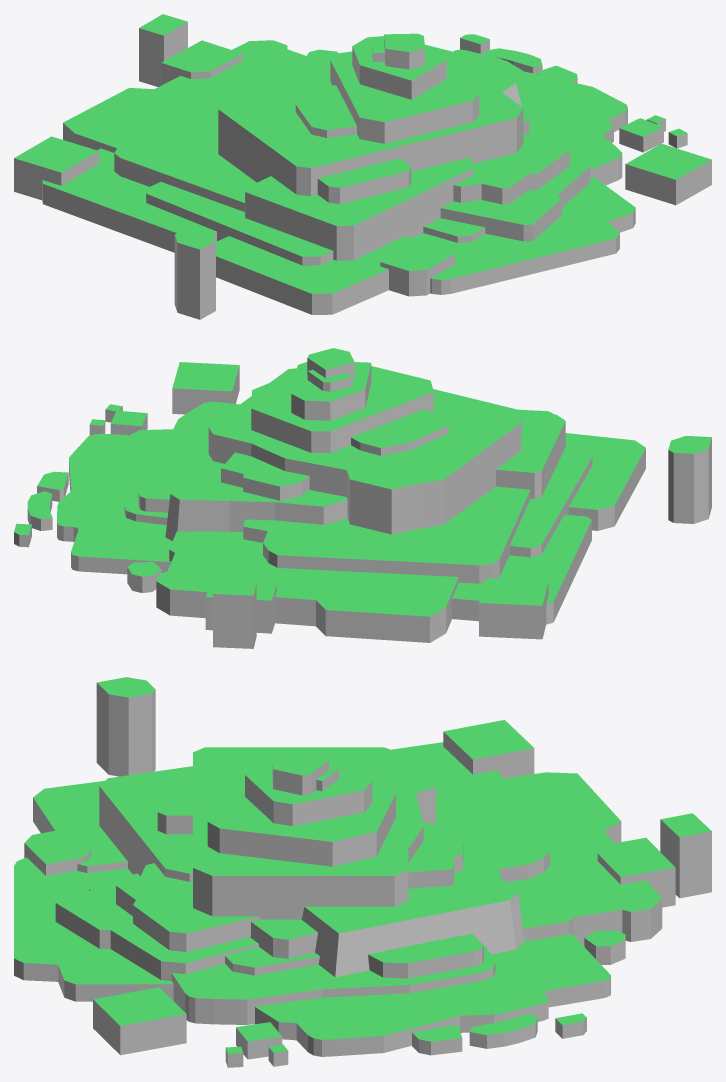
The model's file is mountain_01_group.fbx.
3 views of the same model, one above another, from view 1: azimuth 30°, elevation 25°; view 2: azimuth 150°, elevation 25°; view 3: azimuth 270°, elevation 25° (orthographic). The views are drawn at different scales.
Parts seen in each view (by area): view 1: mountain_01.012, mountain_01.018, mountain_01.004, mountain_01.006, mountain_01.019, mountain_01.009, mountain_01.023, mountain_01.021, mountain_01.001, mountain_01.015, mountain_01.020, mountain_01.017 (+16 smaller); view 2: mountain_01.012, mountain_01.006, mountain_01.009, mountain_01.001, mountain_01.008, mountain_01.023, mountain_01.021, mountain_01.019, mountain_01.020, mountain_01.032, mountain_01.018, mountain_01.036 (+14 smaller); view 3: mountain_01.012, mountain_01.001, mountain_01.006, mountain_01.008, mountain_01.004, mountain_01.023, mountain_01.005, mountain_01.009, mountain_01.015, mountain_01.018, mountain_01.017, mountain_01.036 (+19 smaller).
Boxes of the visible parts, x1=… form: mountain_01.012: x1=218, y1=62, x2=523, y2=196; mountain_01.018: x1=245, y1=157, x2=473, y2=260; mountain_01.004: x1=413, y1=176, x2=635, y2=294; mountain_01.006: x1=63, y1=40, x2=329, y2=152; mountain_01.019: x1=216, y1=235, x2=430, y2=314; mountain_01.009: x1=114, y1=77, x2=256, y2=211; mountain_01.023: x1=330, y1=44, x2=479, y2=143; mountain_01.021: x1=42, y1=148, x2=216, y2=252; mountain_01.001: x1=453, y1=49, x2=627, y2=142; mountain_01.015: x1=440, y1=154, x2=590, y2=241; mountain_01.020: x1=146, y1=182, x2=333, y2=265; mountain_01.017: x1=453, y1=133, x2=569, y2=204; mountain_01.012: x1=208, y1=368, x2=521, y2=534; mountain_01.006: x1=156, y1=531, x2=458, y2=642; mountain_01.009: x1=243, y1=486, x2=530, y2=583; mountain_01.001: x1=57, y1=429, x2=172, y2=574; mountain_01.008: x1=165, y1=424, x2=347, y2=540; mountain_01.023: x1=251, y1=366, x2=433, y2=452; mountain_01.021: x1=452, y1=514, x2=591, y2=624; mountain_01.019: x1=565, y1=433, x2=645, y2=530; mountain_01.020: x1=509, y1=448, x2=592, y2=557; mountain_01.032: x1=479, y1=578, x2=548, y2=639; mountain_01.018: x1=496, y1=410, x2=565, y2=498; mountain_01.036: x1=668, y1=436, x2=711, y2=523; mountain_01.012: x1=193, y1=747, x2=435, y2=919; mountain_01.001: x1=255, y1=933, x2=610, y2=1056; mountain_01.006: x1=480, y1=772, x2=662, y2=945; mountain_01.008: x1=301, y1=822, x2=524, y2=977; mountain_01.004: x1=14, y1=857, x2=173, y2=1001; mountain_01.023: x1=207, y1=764, x2=395, y2=866; mountain_01.005: x1=171, y1=947, x2=495, y2=1024; mountain_01.009: x1=417, y1=755, x2=549, y2=882; mountain_01.015: x1=55, y1=882, x2=258, y2=980; mountain_01.018: x1=99, y1=766, x2=192, y2=881; mountain_01.017: x1=116, y1=863, x2=259, y2=951; mountain_01.036: x1=96, y1=677, x2=155, y2=776.
Size of the model in its own units: 12655 by 3097 by 12033.
